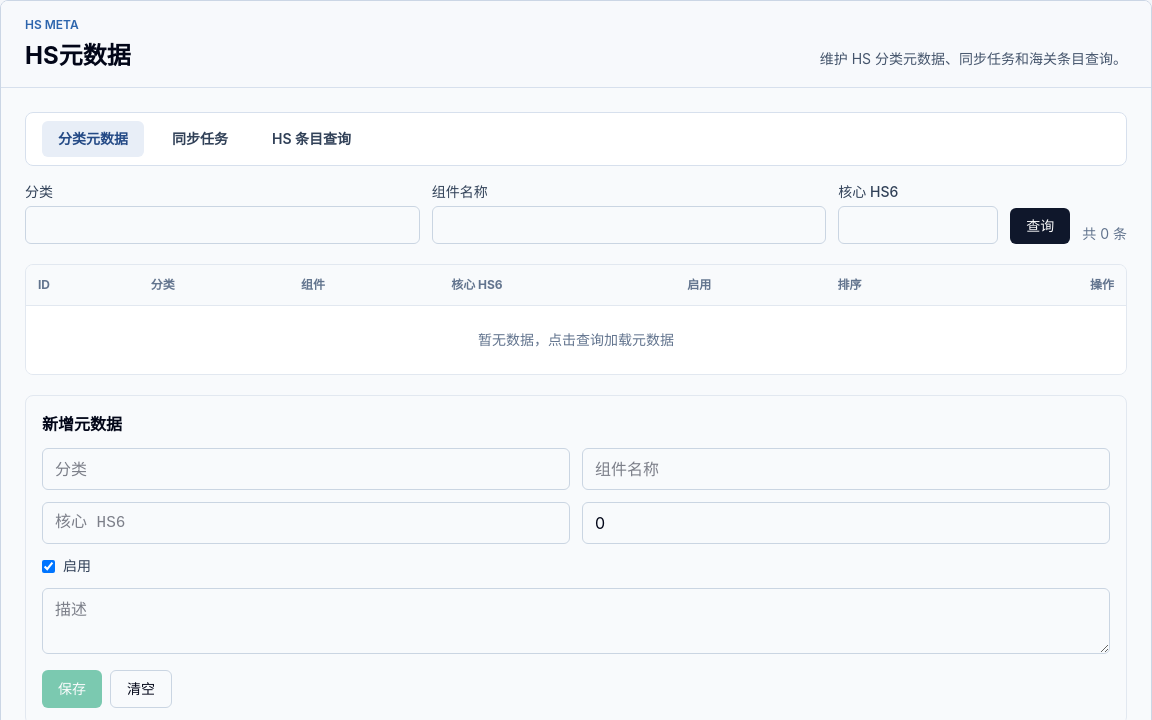
Scenario: HsMetaAdminPage › renders admin tools instead of the old visibility placeholder
Check: the heading "HS元数据" is shown, box [25,41,131,71]
Check: the button "分类元数据" is shown, box [42,121,144,157]
What coordinates should you click on to do the following:
click the button "同步任务"
I would click on:
 (200, 139)
Its box is [156,121,244,157].
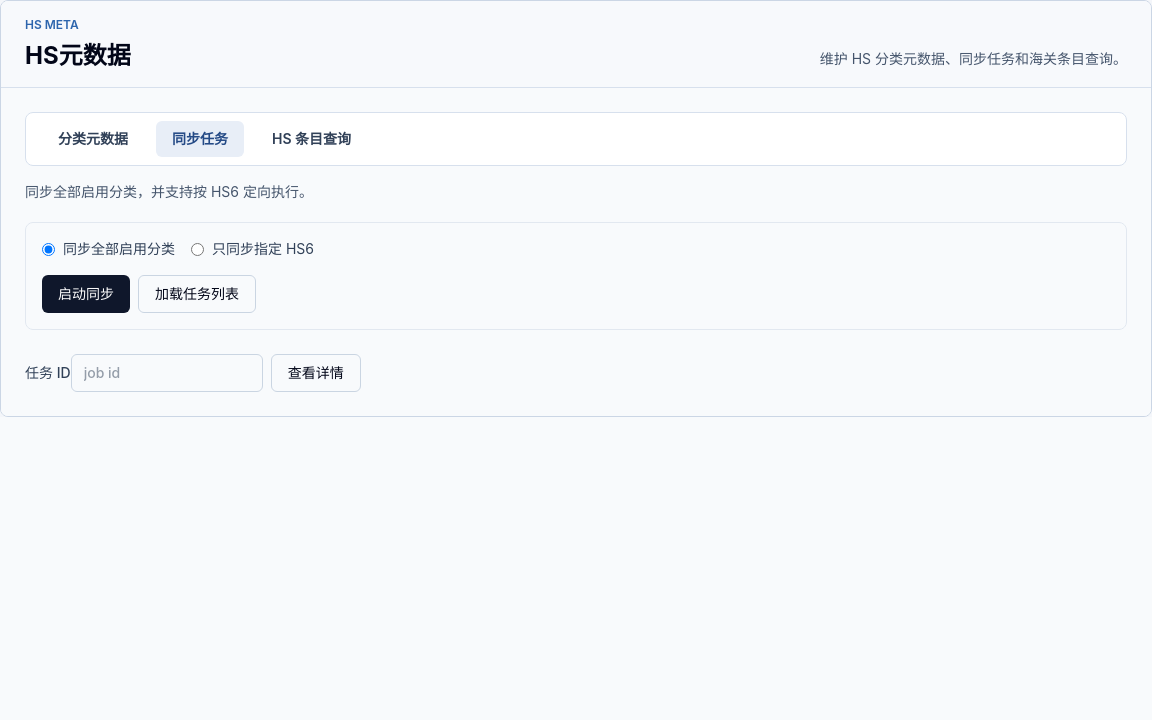
Check: the text "同步全部启用分类" is shown, box [42,239,175,259]
